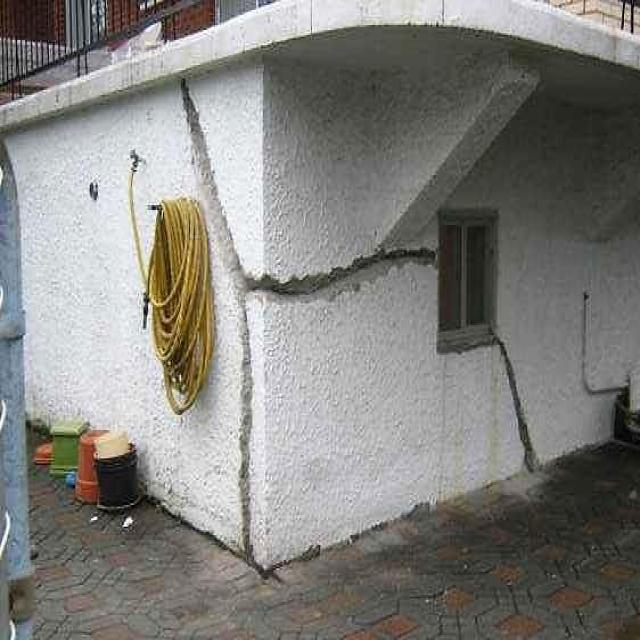crack: (179, 74, 440, 555), (498, 346, 542, 473)
